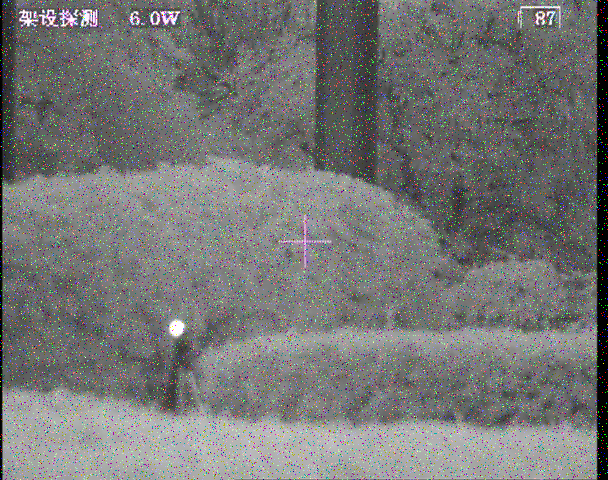my: (167, 319, 186, 338)
